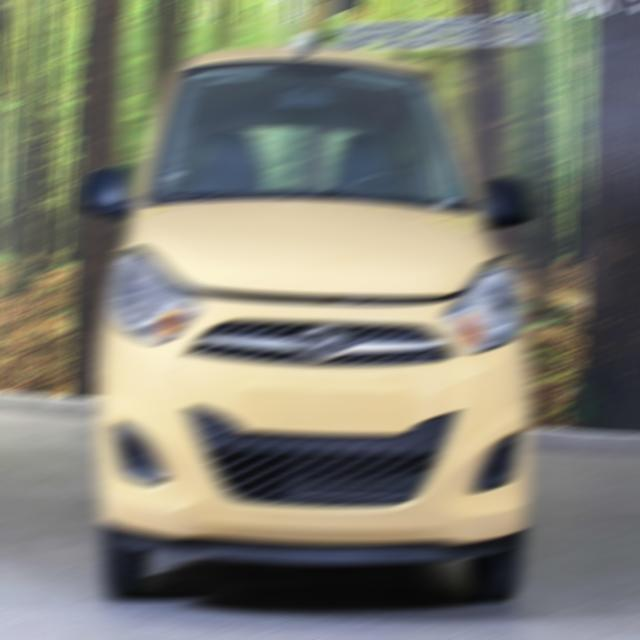Taxi: (92, 20, 556, 603)
